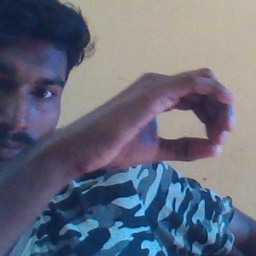O: (84, 63, 239, 177)
